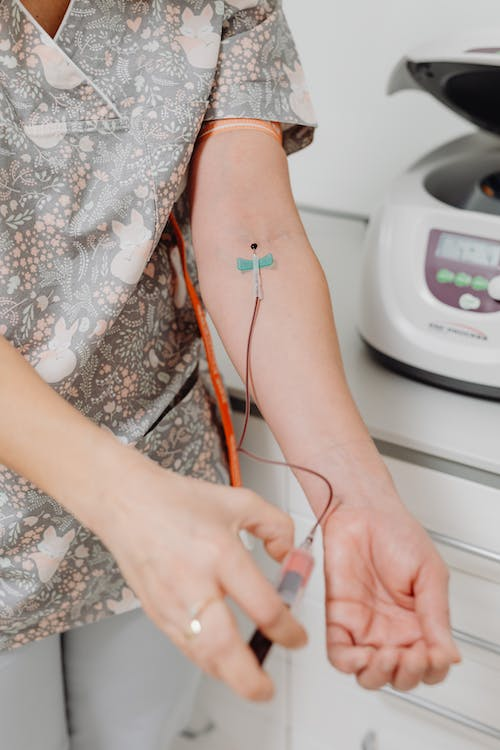blood: (231, 294, 335, 544), (246, 566, 304, 668), (249, 239, 261, 252)
